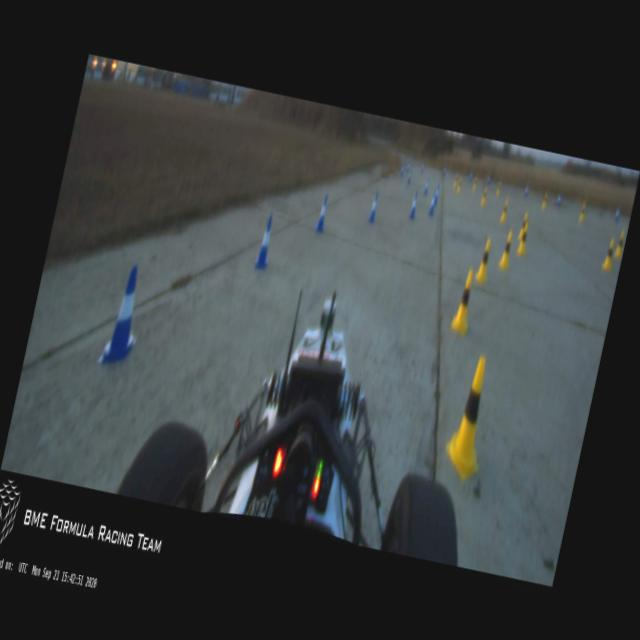blue_cone: (98, 264, 150, 369), (252, 214, 277, 271), (314, 193, 330, 231), (366, 191, 381, 223), (407, 192, 420, 220), (427, 191, 437, 216), (612, 203, 622, 224), (432, 184, 441, 207), (422, 177, 430, 196), (398, 162, 405, 178), (406, 169, 412, 185), (556, 192, 562, 205), (468, 170, 474, 180), (442, 164, 447, 175), (486, 172, 490, 185), (406, 160, 410, 172), (420, 162, 424, 174), (524, 184, 528, 196)
yellow_cone: (440, 352, 501, 481), (450, 270, 479, 335), (474, 236, 494, 284), (600, 236, 618, 273), (498, 232, 515, 270), (517, 222, 531, 254), (613, 228, 627, 260), (518, 212, 528, 238), (500, 198, 510, 223), (578, 200, 588, 222), (479, 186, 488, 208), (540, 190, 548, 210), (456, 176, 462, 194), (452, 172, 458, 189), (496, 179, 502, 195), (472, 176, 478, 190)
